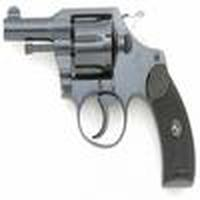gun: (8, 7, 197, 194)
